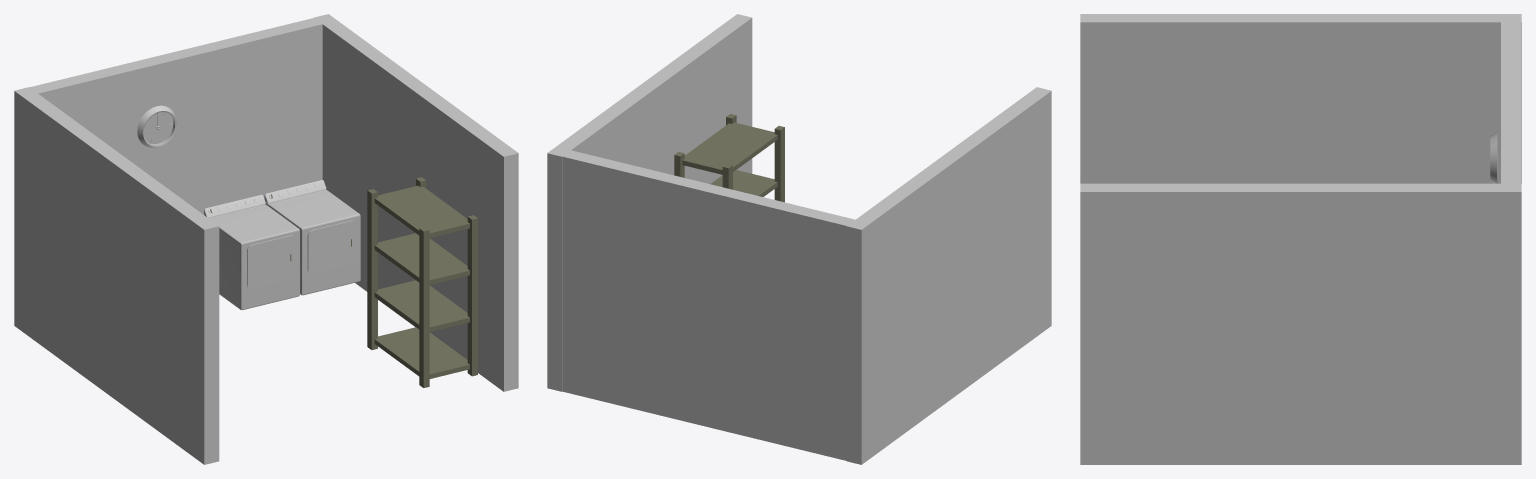
The model's file is escena.obj.
3 views of the same model, side by side, from view 1: azimuth 30°, elevation 25°; view 2: azimuth 150°, elevation 25°; view 3: azimuth 270°, elevation 25° (orthographic). The views are drawn at different scales.
Visible parts, largest first — view 1: Paredes:pCube2, Paredes:pasted__pCube2 Paredes:group1, Paredes:pCube1, estante:group5_estante:pasted__group3_estante:pasted__pasted__pC, LavadoraFinal:pCube10, group2 LavadoraFinal3:pCube10, relojAspas:pCube15; view 2: Paredes:pCube1, Paredes:pCube2, Paredes:pasted__pCube2 Paredes:group1, estante:group5_estante:pasted__group3_estante:pasted__pasted__pC; view 3: Paredes:pasted__pCube2 Paredes:group1, Paredes:pCube2, Paredes:pCube1.
Boxes of the visible parts, left/top/right/bottom form: Paredes:pCube2: left=14, top=87, right=219, bottom=464; Paredes:pasted__pCube2 Paredes:group1: left=314, top=14, right=518, bottom=391; Paredes:pCube1: left=22, top=16, right=329, bottom=214; estante:group5_estante:pasted__group3_estante:pasted__pasted__pC: left=367, top=177, right=477, bottom=387; LavadoraFinal:pCube10: left=204, top=194, right=299, bottom=310; group2 LavadoraFinal3:pCube10: left=264, top=180, right=360, bottom=295; relojAspas:pCube15: left=137, top=105, right=176, bottom=147; Paredes:pCube1: left=555, top=148, right=862, bottom=460; Paredes:pCube2: left=846, top=87, right=1051, bottom=464; Paredes:pasted__pCube2 Paredes:group1: left=547, top=14, right=752, bottom=391; estante:group5_estante:pasted__group3_estante:pasted__pasted__pC: left=674, top=114, right=784, bottom=202; Paredes:pasted__pCube2 Paredes:group1: left=1080, top=183, right=1521, bottom=464; Paredes:pCube2: left=1080, top=14, right=1521, bottom=183; Paredes:pCube1: left=1501, top=18, right=1520, bottom=187.
Bounding box in the file's own units: 21 × 15 × 22.
